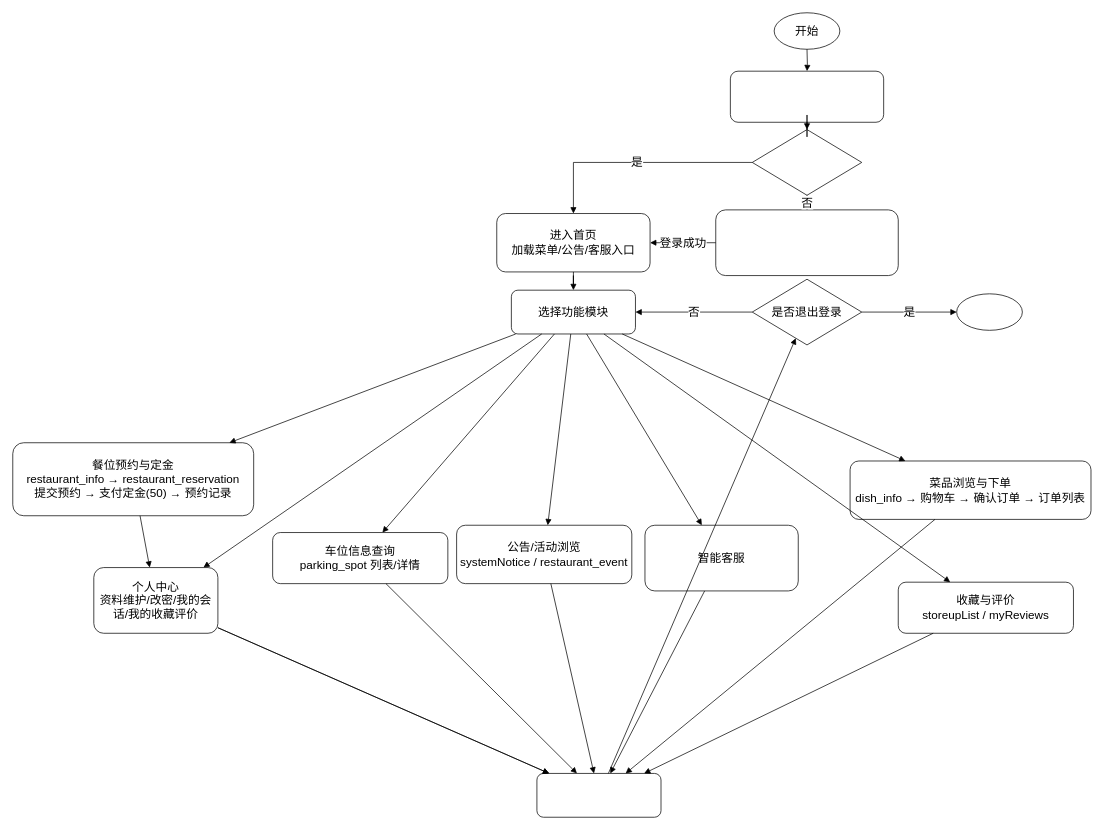
Some shapes in this 1104 by 830 pixel diagram are drawn without their labels. Each missing label, with the centre of its shape:
"是否已登录 (frontToken)" goes at (x=807, y=162).
"登录 / 注册 / 找回密码 /login /userRegister /forget" goes at (x=806, y=242).
"结束" goes at (x=989, y=311).
"访问用户端系统 /index/home" goes at (x=807, y=96).
"返回首页/继续使用" goes at (x=598, y=795).
